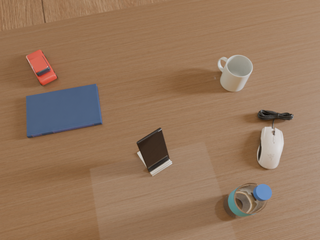book: (26, 84, 102, 138)
bottle: (224, 183, 272, 218)
cup: (218, 55, 252, 92)
mouse: (257, 126, 284, 169)
phone: (137, 128, 169, 172)
toy_car: (26, 50, 57, 85)
